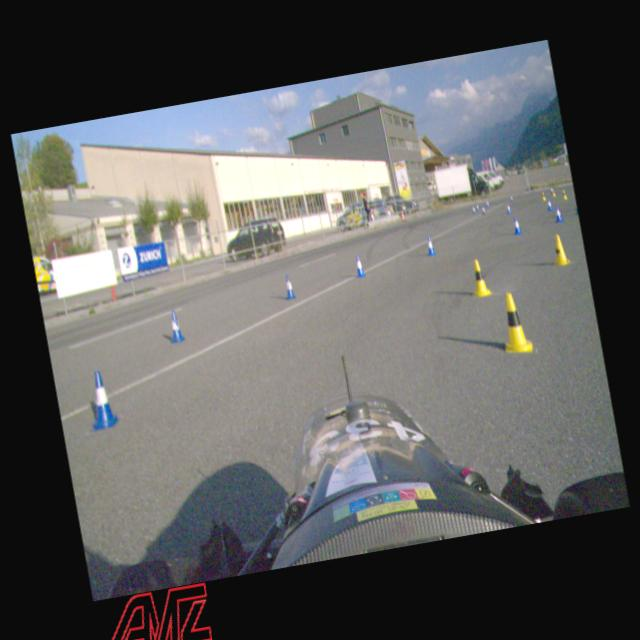blue_cone: (80, 367, 120, 431), (164, 308, 187, 342), (282, 272, 296, 300), (352, 254, 366, 278), (424, 234, 436, 256), (511, 214, 522, 234), (553, 204, 564, 222), (545, 197, 553, 211), (505, 202, 512, 214), (480, 204, 486, 214), (471, 204, 476, 214), (475, 202, 480, 212), (486, 199, 490, 207)
yellow_cone: (495, 288, 534, 356), (468, 258, 493, 298), (550, 233, 570, 267), (561, 188, 568, 199), (540, 190, 546, 200), (551, 188, 556, 196)
